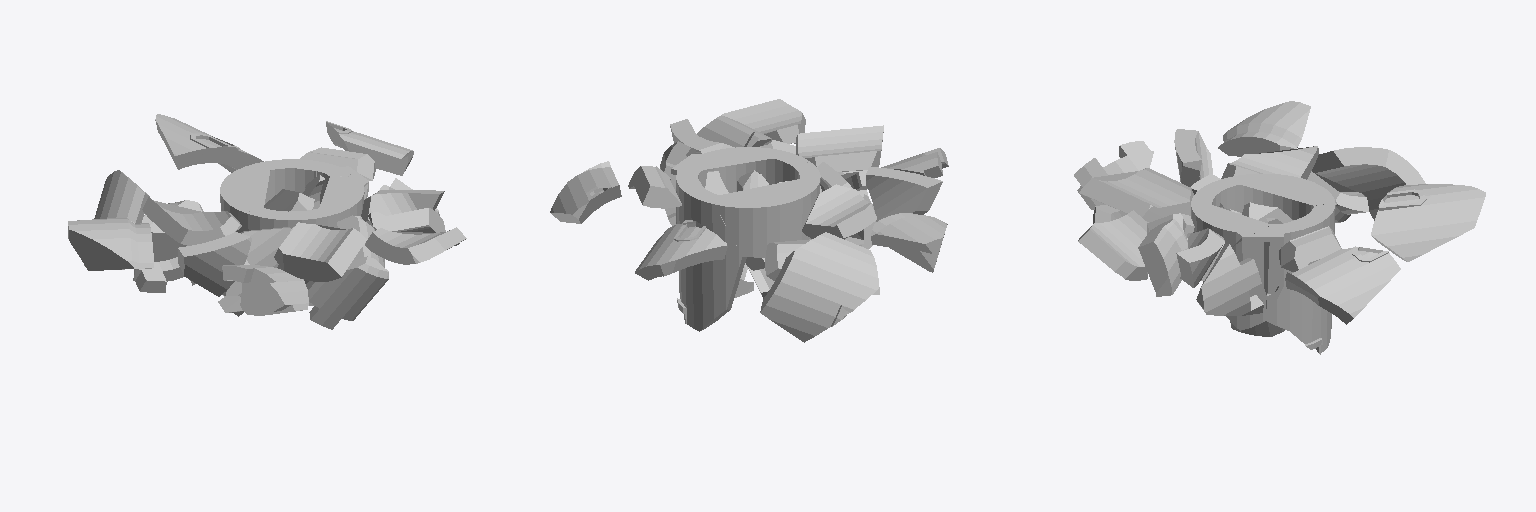
The model's file is destruction_tower_000064.obj.
The picture shows the model from 3 angles: view 1: azimuth 30°, elevation 25°; view 2: azimuth 150°, elevation 25°; view 3: azimuth 270°, elevation 25°; orthographic projection.
Visible parts, largest first — view 1: tower.001_cell.005_Mesh.005, tower.001_cell.024_Mesh.024, tower.001_cell.011_Mesh.011, tower.001_cell.006_Mesh.006, tower.001_cell.025_Mesh.025, tower.001_cell.002_Mesh.002, tower.001_cell.009_Mesh.009, tower.001_cell.021_Mesh.021, tower.001_cell.028_Mesh.028, tower.001_cell.007_Mesh.007, tower.001_cell.015_Mesh.015, tower.001_cell.012_Mesh.012 (+9 smaller); view 2: tower.001_cell.003_Mesh.003, tower.001_cell.017_Mesh.017, tower.001_cell.015_Mesh.015, tower.001_cell.025_Mesh.025, tower.001_cell.024_Mesh.024, tower.001_cell.028_Mesh.028, tower.001_cell.005_Mesh.005, tower.001_cell.002_Mesh.002, tower.001_cell.009_Mesh.009, tower.001_cell.012_Mesh.012, tower.001_cell.021_Mesh.021, tower.001_cell.016_Mesh.016 (+7 smaller); view 3: tower.001_cell.025_Mesh.025, tower.001_cell.012_Mesh.012, tower.001_cell.003_Mesh.003, tower.001_cell.024_Mesh.024, tower.001_cell.005_Mesh.005, tower.001_cell.030_Mesh.030, tower.001_cell.021_Mesh.021, tower.001_cell.017_Mesh.017, tower.001_cell.015_Mesh.015, tower.001_cell_Mesh, tower.001_cell.028_Mesh.028, tower.001_cell.009_Mesh.009 (+9 smaller).
Part boxes in pixels (left/top/right/bottom): tower.001_cell.005_Mesh.005: left=68, top=218, right=153, bottom=270; tower.001_cell.024_Mesh.024: left=274, top=222, right=366, bottom=281; tower.001_cell.011_Mesh.011: left=306, top=256, right=388, bottom=329; tower.001_cell.006_Mesh.006: left=222, top=265, right=308, bottom=315; tower.001_cell.025_Mesh.025: left=155, top=114, right=263, bottom=172; tower.001_cell.002_Mesh.002: left=178, top=232, right=251, bottom=296; tower.001_cell.009_Mesh.009: left=142, top=197, right=241, bottom=245; tower.001_cell.021_Mesh.021: left=365, top=227, right=466, bottom=264; tower.001_cell.028_Mesh.028: left=289, top=176, right=368, bottom=227; tower.001_cell.007_Mesh.007: left=133, top=200, right=203, bottom=292; tower.001_cell.015_Mesh.015: left=220, top=164, right=269, bottom=232; tower.001_cell.012_Mesh.012: left=326, top=121, right=413, bottom=175; tower.001_cell.003_Mesh.003: left=760, top=232, right=878, bottom=342; tower.001_cell.017_Mesh.017: left=676, top=173, right=746, bottom=331; tower.001_cell.015_Mesh.015: left=715, top=179, right=818, bottom=257; tower.001_cell.025_Mesh.025: left=635, top=220, right=727, bottom=280; tower.001_cell.024_Mesh.024: left=796, top=125, right=883, bottom=174; tower.001_cell.028_Mesh.028: left=692, top=147, right=809, bottom=192; tower.001_cell.005_Mesh.005: left=871, top=213, right=947, bottom=272; tower.001_cell.002_Mesh.002: left=866, top=167, right=942, bottom=221; tower.001_cell.009_Mesh.009: left=802, top=184, right=876, bottom=239; tower.001_cell.012_Mesh.012: left=550, top=161, right=621, bottom=223; tower.001_cell.021_Mesh.021: left=722, top=99, right=805, bottom=143; tower.001_cell.016_Mesh.016: left=628, top=166, right=681, bottom=208; tower.001_cell.025_Mesh.025: left=1371, top=184, right=1485, bottom=261; tower.001_cell.012_Mesh.012: left=1285, top=246, right=1400, bottom=324; tower.001_cell.003_Mesh.003: left=1312, top=147, right=1425, bottom=220; tower.001_cell.024_Mesh.024: left=1079, top=168, right=1193, bottom=222; tower.001_cell.005_Mesh.005: left=1218, top=101, right=1310, bottom=156; tower.001_cell.030_Mesh.030: left=1196, top=244, right=1263, bottom=315; tower.001_cell.021_Mesh.021: left=1078, top=210, right=1148, bottom=280; tower.001_cell.017_Mesh.017: left=1289, top=203, right=1335, bottom=354; tower.001_cell.015_Mesh.015: left=1240, top=174, right=1334, bottom=219; tower.001_cell_Mesh: left=1138, top=219, right=1187, bottom=296; tower.001_cell.028_Mesh.028: left=1191, top=190, right=1270, bottom=259; tower.001_cell.009_Mesh.009: left=1221, top=146, right=1318, bottom=179.
Bounding box in the file's own units: 124 × 44.63 × 122.